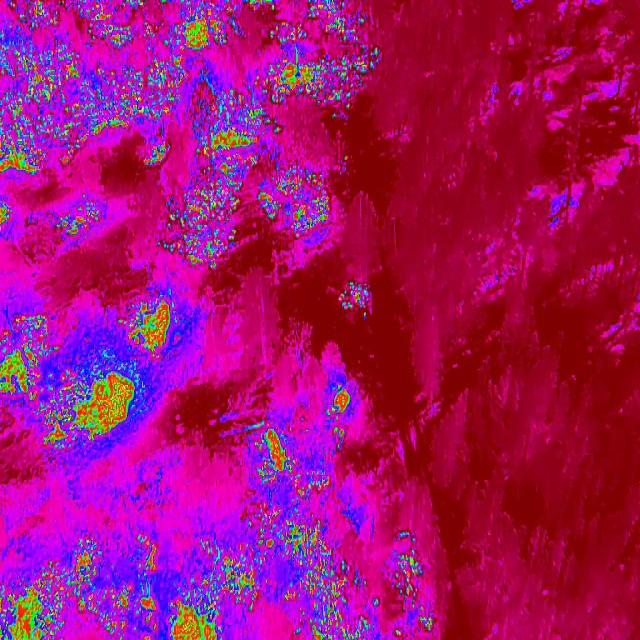fire: (0, 0, 383, 122), (0, 292, 211, 444), (248, 414, 378, 640), (0, 531, 246, 640), (193, 122, 327, 177), (157, 178, 243, 262), (0, 124, 105, 178), (388, 529, 438, 639), (0, 196, 109, 242), (256, 178, 330, 240), (341, 274, 372, 324), (325, 378, 360, 414), (143, 140, 172, 169)
